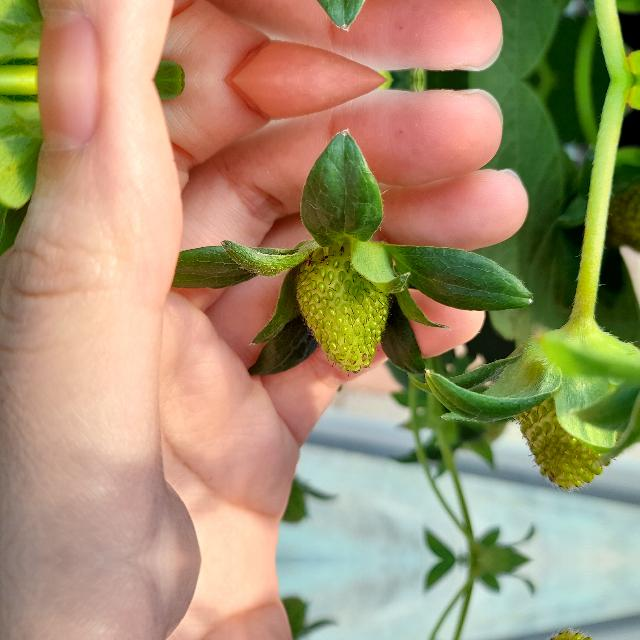Health_25: (508, 350, 622, 490), (294, 242, 390, 374)
